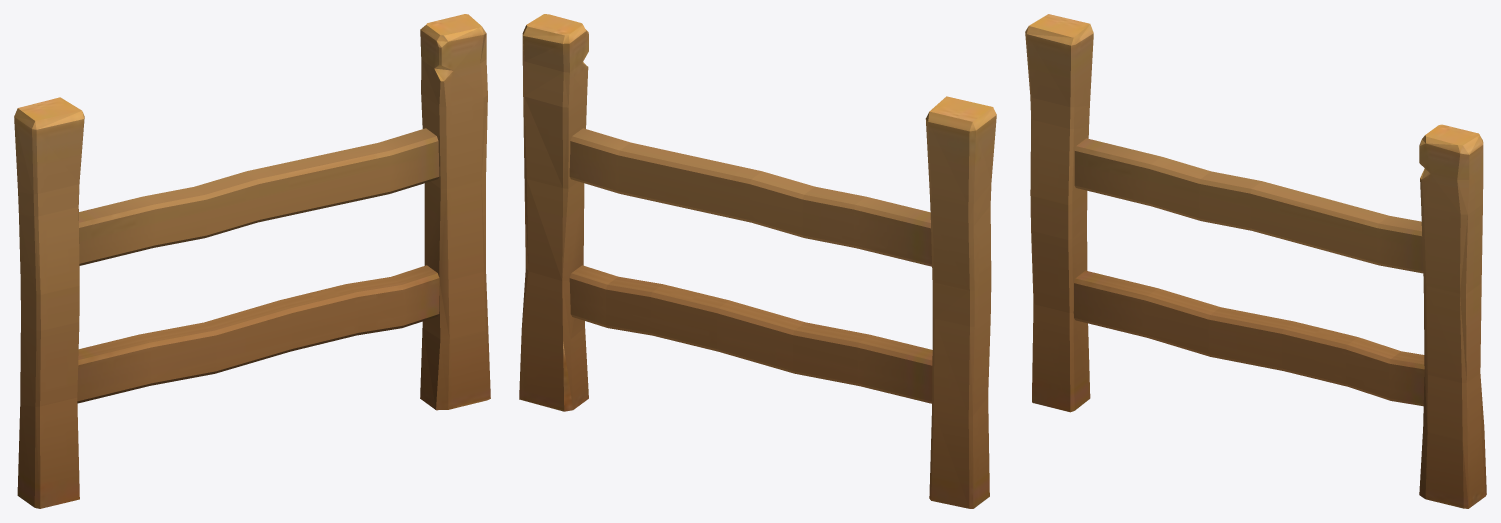
Rendered from fence_rail.glb.
The picture shows the model from 3 angles, left to right: view 1: azimuth 30°, elevation 25°; view 2: azimuth 150°, elevation 25°; view 3: azimuth 330°, elevation 25°; orthographic projection. The views are drawn at different scales.
Parts seen in each view (by area): view 1: fence_rail; view 2: fence_rail; view 3: fence_rail.
Part boxes in pixels (x1,y1,x2,y2): fence_rail: [14, 14, 490, 508]; fence_rail: [519, 14, 996, 508]; fence_rail: [1025, 14, 1486, 508].
Size of the model in its own units: 1.1 by 0.89 by 0.1.
1 material, 1 textured.
